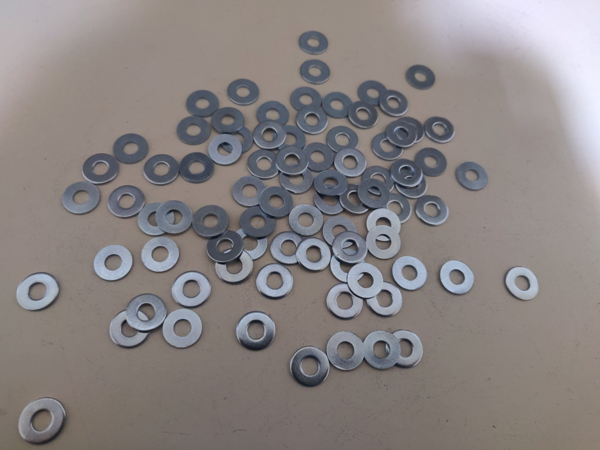circle: (17, 398, 66, 445), (16, 273, 60, 312), (110, 309, 151, 350), (290, 346, 331, 387), (237, 311, 277, 351), (164, 309, 203, 350), (127, 295, 167, 333), (327, 332, 365, 371), (387, 330, 424, 370), (95, 245, 133, 282), (172, 272, 211, 308), (142, 237, 180, 273), (365, 332, 401, 370), (348, 263, 384, 300), (216, 249, 254, 284), (256, 264, 294, 299), (326, 284, 364, 319), (367, 282, 403, 318), (392, 257, 428, 292), (156, 201, 193, 235), (330, 250, 367, 284), (440, 261, 475, 296), (232, 228, 268, 262), (139, 203, 176, 236), (207, 231, 244, 264), (108, 186, 146, 218), (270, 231, 304, 266), (296, 237, 331, 271), (64, 182, 101, 214), (506, 267, 539, 302), (333, 231, 368, 264), (367, 226, 402, 259), (83, 154, 120, 185), (192, 206, 229, 237), (232, 176, 267, 208), (367, 209, 402, 241), (260, 186, 294, 218), (324, 217, 358, 249), (180, 153, 215, 184), (241, 207, 276, 238), (290, 205, 323, 237), (280, 164, 314, 195), (114, 134, 149, 164), (145, 155, 180, 185), (208, 135, 243, 165), (339, 184, 372, 215), (358, 179, 391, 210), (380, 193, 411, 225), (416, 196, 449, 226), (314, 185, 347, 215), (275, 146, 309, 175), (333, 148, 367, 177), (302, 142, 334, 172), (178, 116, 211, 145), (187, 90, 220, 119), (254, 121, 287, 150), (296, 106, 329, 135), (415, 148, 447, 177), (249, 150, 281, 179), (363, 166, 395, 195), (396, 169, 428, 198), (220, 126, 253, 154), (456, 162, 489, 190), (257, 102, 290, 130), (275, 125, 306, 154), (348, 101, 379, 130), (372, 133, 404, 161), (391, 159, 423, 187), (212, 108, 245, 135), (315, 171, 349, 197), (328, 126, 358, 155), (424, 117, 456, 144), (323, 92, 354, 119), (227, 79, 259, 105), (380, 90, 409, 118), (358, 81, 389, 107), (395, 117, 426, 143), (290, 88, 322, 113), (386, 122, 418, 147), (406, 65, 436, 90), (300, 60, 330, 84), (299, 31, 328, 54)
